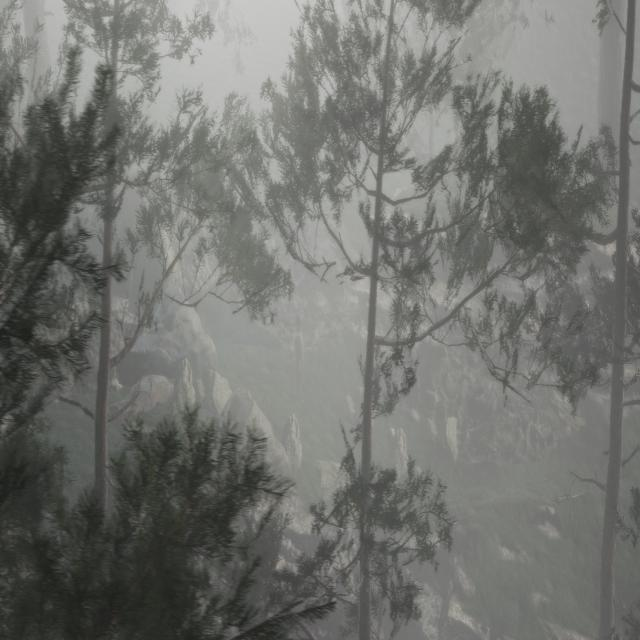Human: (287, 290, 309, 406)
